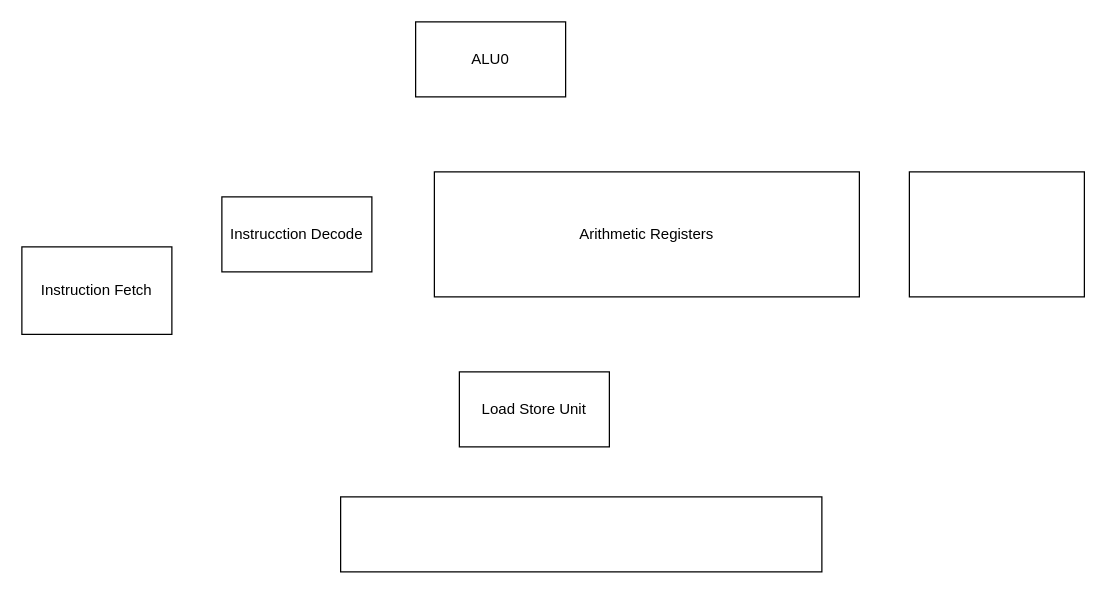
Some shapes in this 1106 by 594 pixel diagram are drawn without their labels. The shapes that lost their labels are listed below. From the top down, each one's centre as x and y in pixels, then its label:
the point at 996,234: Far Registers
the point at 580,534: L0 Store
